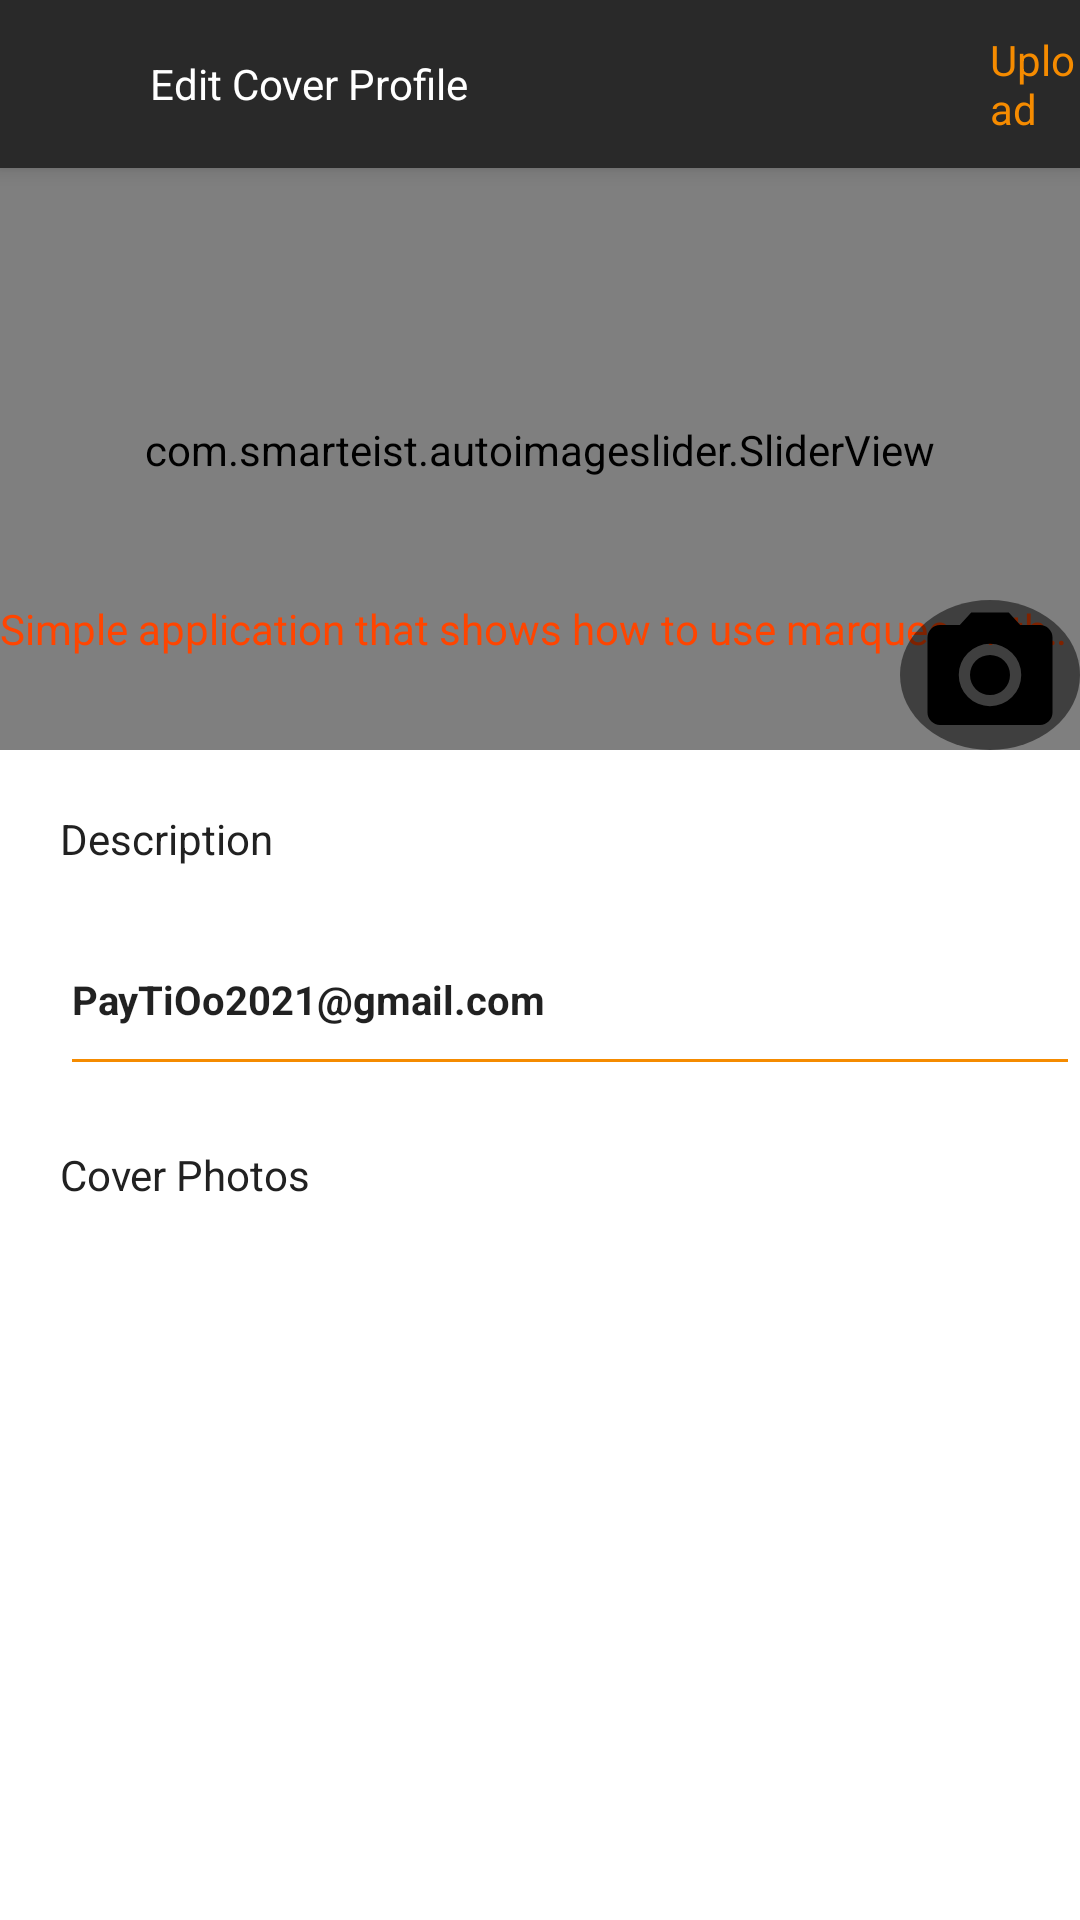

Screen size 1080 × 1920. Icon name, then its center in pixels as [x,y]:
camera: [990,675]
